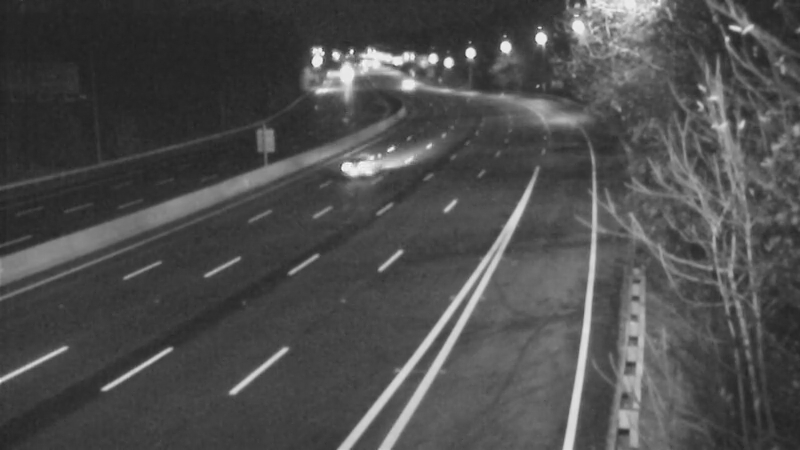vehicle: (317, 130, 397, 210), (384, 58, 434, 108)
